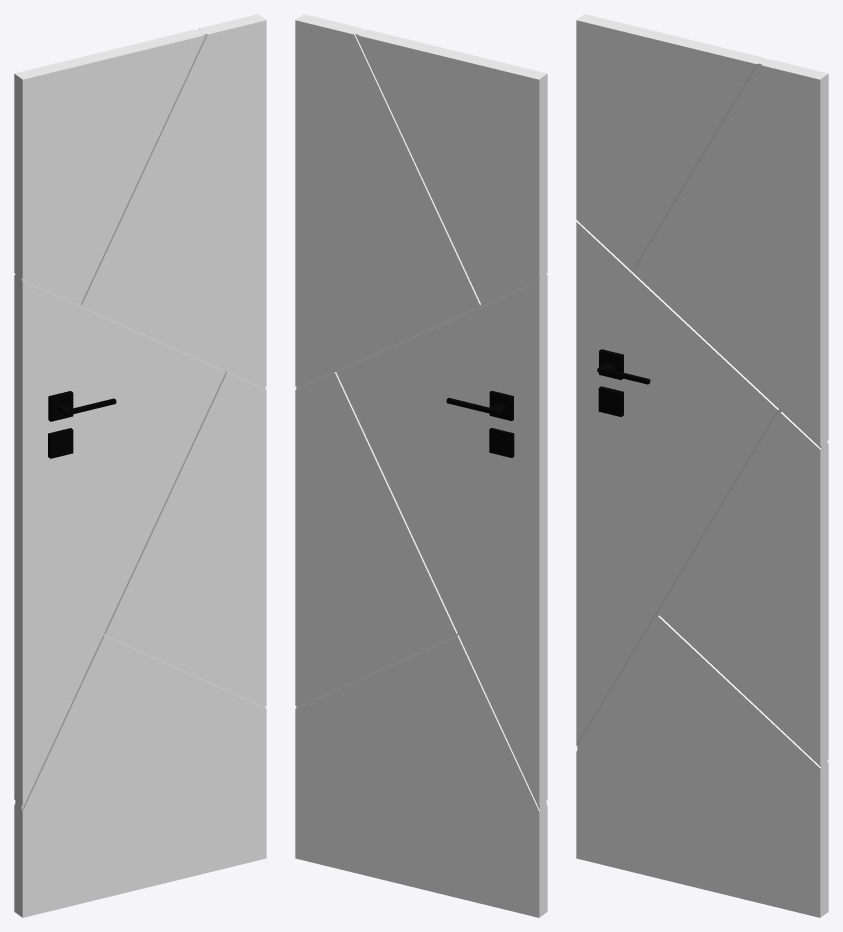
File: RP_1_full1_door.glb
3 renders of one model, left to right at view 1: azimuth 30°, elevation 25°; view 2: azimuth 150°, elevation 25°; view 3: azimuth 330°, elevation 25°, orthographic.
Visible parts, largest first — view 1: RP_1__1_DT_32_door_2; view 2: RP_1__1_DT_32_door_2; view 3: RP_1__1_DT_32_door_2.
Boxes of the visible parts, x1=… form: RP_1__1_DT_32_door_2: x1=14, y1=14, x2=266, y2=917; RP_1__1_DT_32_door_2: x1=295, y1=14, x2=547, y2=917; RP_1__1_DT_32_door_2: x1=576, y1=14, x2=828, y2=917.
Bounding box in the file's own units: 0.5378 × 1.77 × 0.1117.
Materials: 1 (1 with a texture image).
